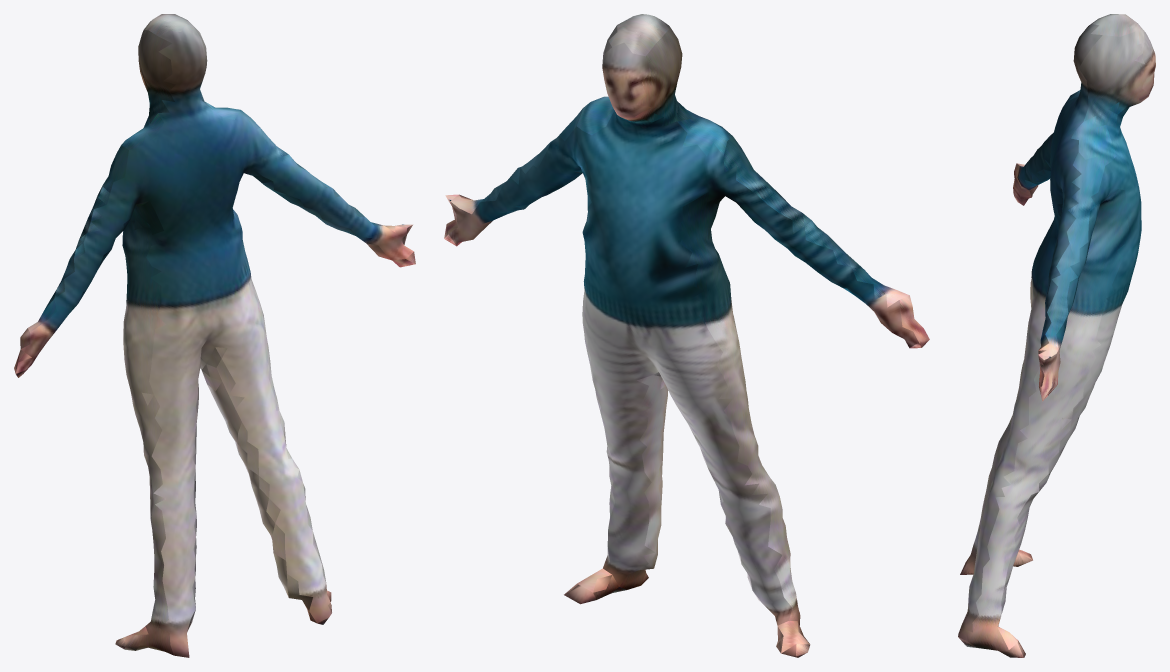
The picture shows the model from 3 angles, left to right: view 1: azimuth 30°, elevation 25°; view 2: azimuth 150°, elevation 25°; view 3: azimuth 270°, elevation 25°; orthographic projection. The views are drawn at different scales.
Visible parts, largest first — view 1: world; view 2: world; view 3: world.
Part boxes in pixels (x1,y1,x2,y2): world: (14, 14, 415, 657); world: (444, 14, 929, 657); world: (958, 14, 1155, 657).
Bounding box in the file's own units: 0.7544 × 1 × 0.3044.
1 material, 1 textured.
